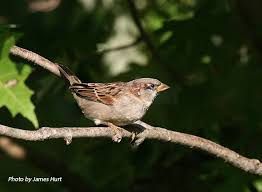hsparrow: (54, 58, 174, 145)
